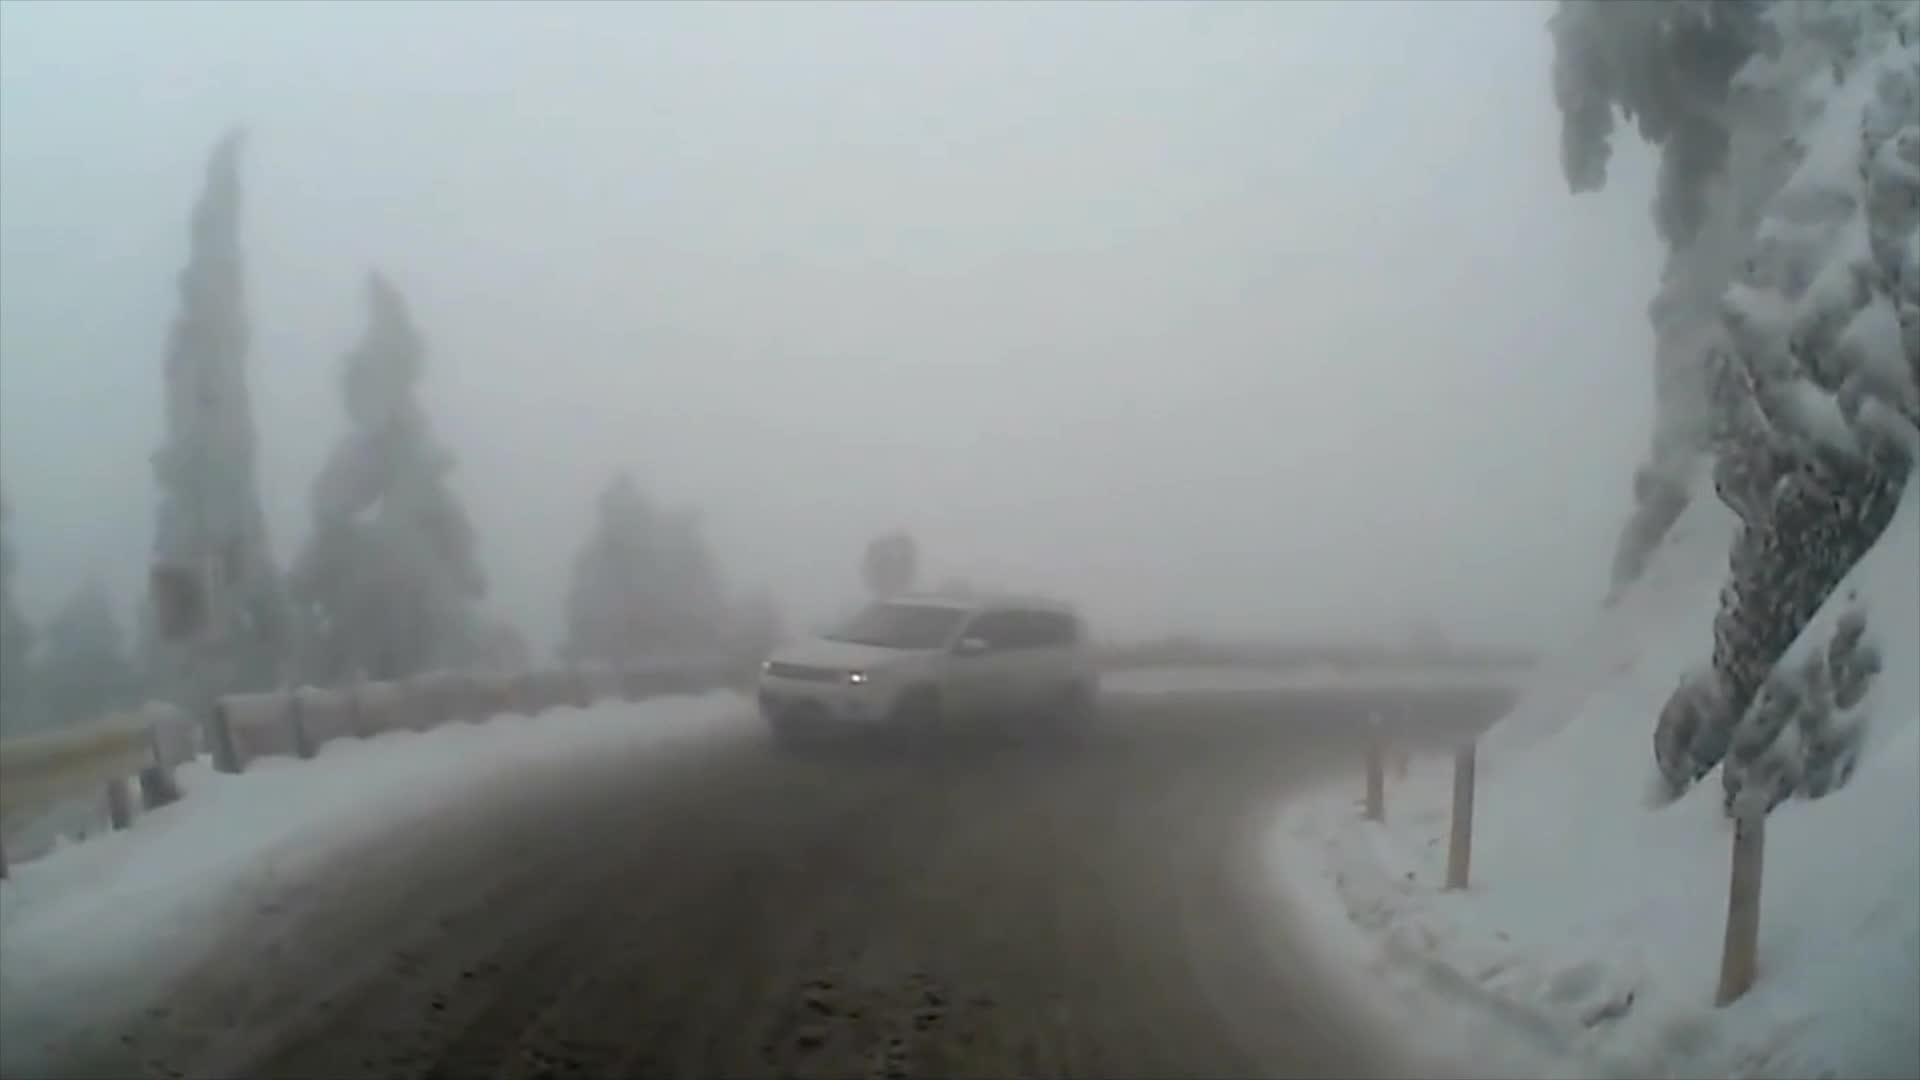vehicle: (752, 593, 1100, 769)
